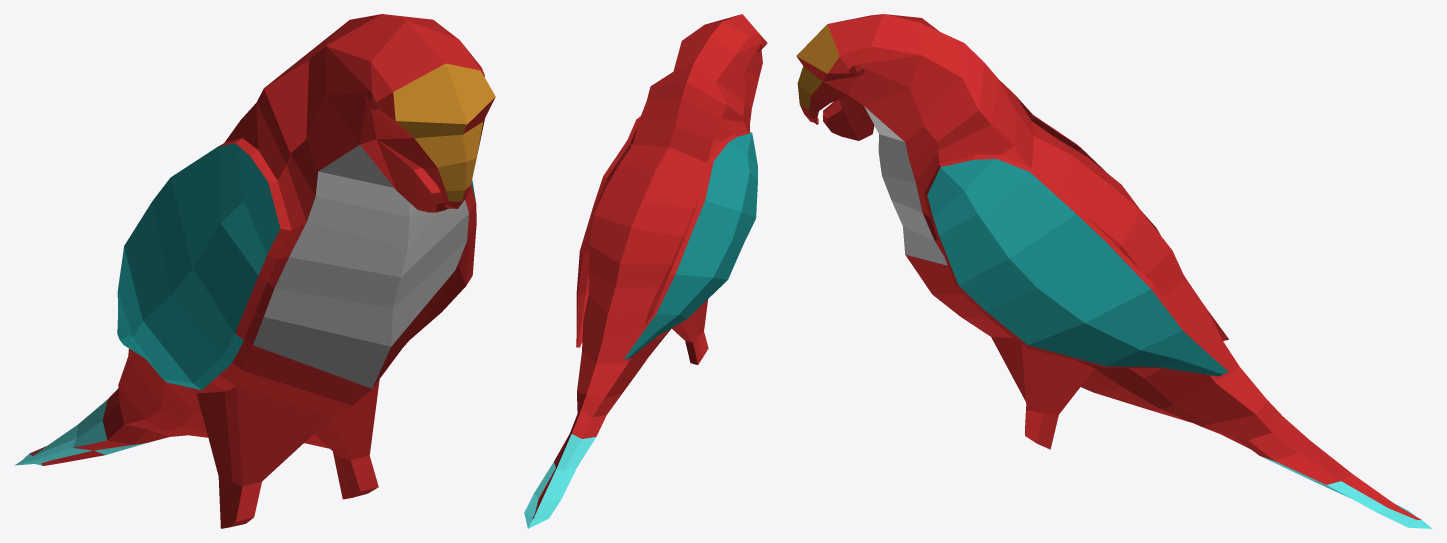
The model's file is Parrot.fbx.
3 views of the same model, side by side, from view 1: azimuth 30°, elevation 25°; view 2: azimuth 150°, elevation 25°; view 3: azimuth 270°, elevation 25° (orthographic). The views are drawn at different scales.
Visible parts, largest first — view 1: Mesh_Parrot; view 2: Mesh_Parrot; view 3: Mesh_Parrot.
Boxes of the visible parts, x1=… form: Mesh_Parrot: x1=14, y1=14, x2=495, y2=528; Mesh_Parrot: x1=524, y1=14, x2=767, y2=528; Mesh_Parrot: x1=796, y1=14, x2=1432, y2=528.
Size of the model in its own units: 82.56 by 224 by 251.
Materials: 1 (1 with a texture image).
